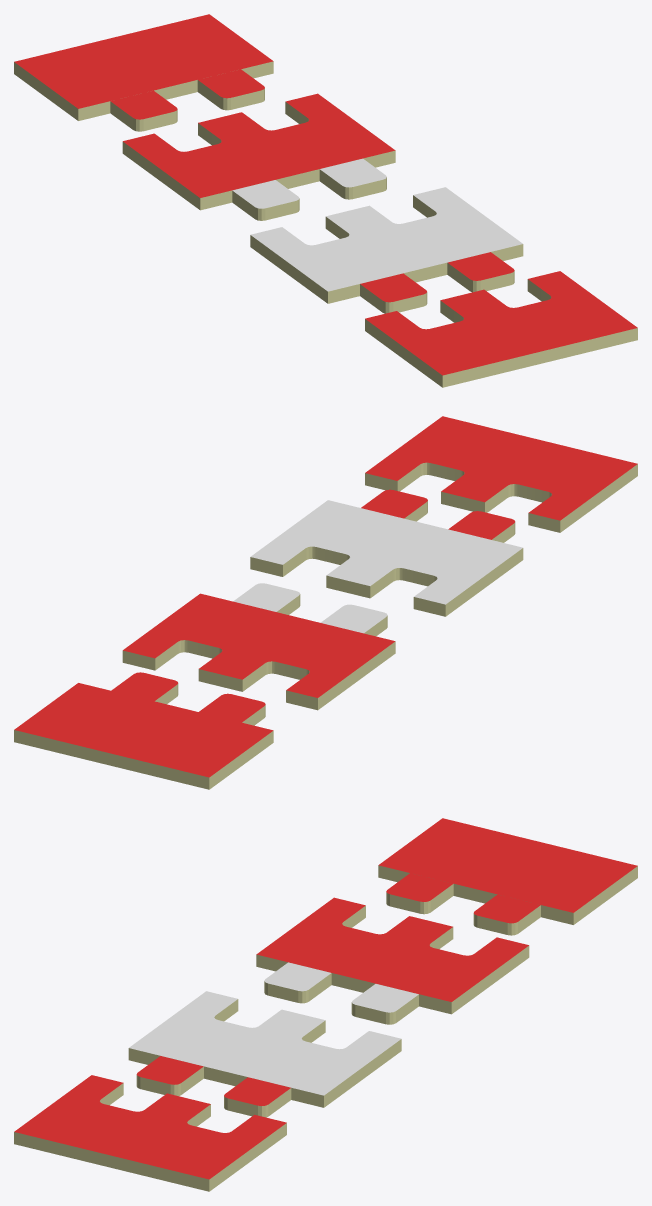
Rendered from puzzle.fbx.
3 renders of one model, top to bottom at view 1: azimuth 30°, elevation 25°; view 2: azimuth 150°, elevation 25°; view 3: azimuth 330°, elevation 25°, orthographic.
Parts seen in each view (by area): view 1: pCube53, pCube50, pCube54, polySurface4; view 2: pCube53, pCube50, pCube54, polySurface4; view 3: pCube53, pCube50, pCube54, polySurface4.
Part boxes in pixels (bbox=[...]): pCube53: bbox=[122, 93, 395, 220]; pCube50: bbox=[250, 187, 523, 313]; pCube54: bbox=[14, 14, 273, 131]; polySurface4: bbox=[365, 271, 637, 387]; pCube53: bbox=[122, 583, 395, 710]; pCube50: bbox=[250, 489, 523, 616]; pCube54: bbox=[14, 672, 273, 789]; polySurface4: bbox=[365, 416, 637, 532]; pCube53: bbox=[256, 897, 529, 1024]; pCube50: bbox=[128, 991, 401, 1117]; pCube54: bbox=[378, 818, 637, 935]; polySurface4: bbox=[14, 1075, 286, 1191].
Size of the model in its own units: 6.89 by 0.413 by 26.19.
